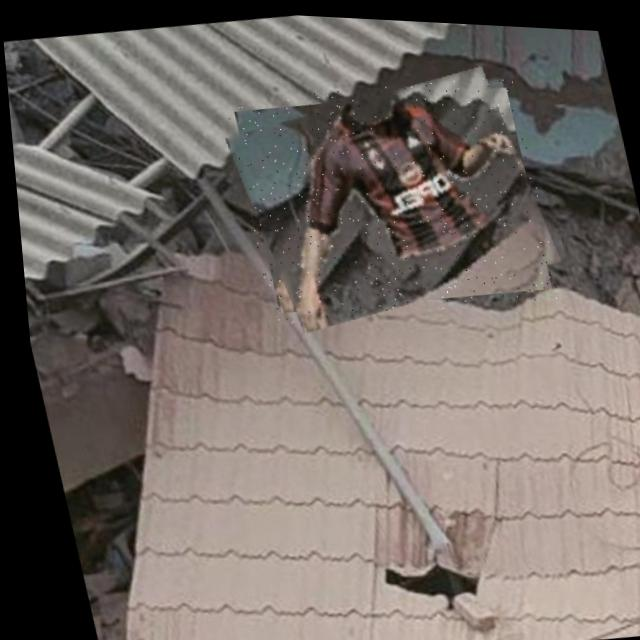Person in Rubble: (219, 58, 560, 334)
